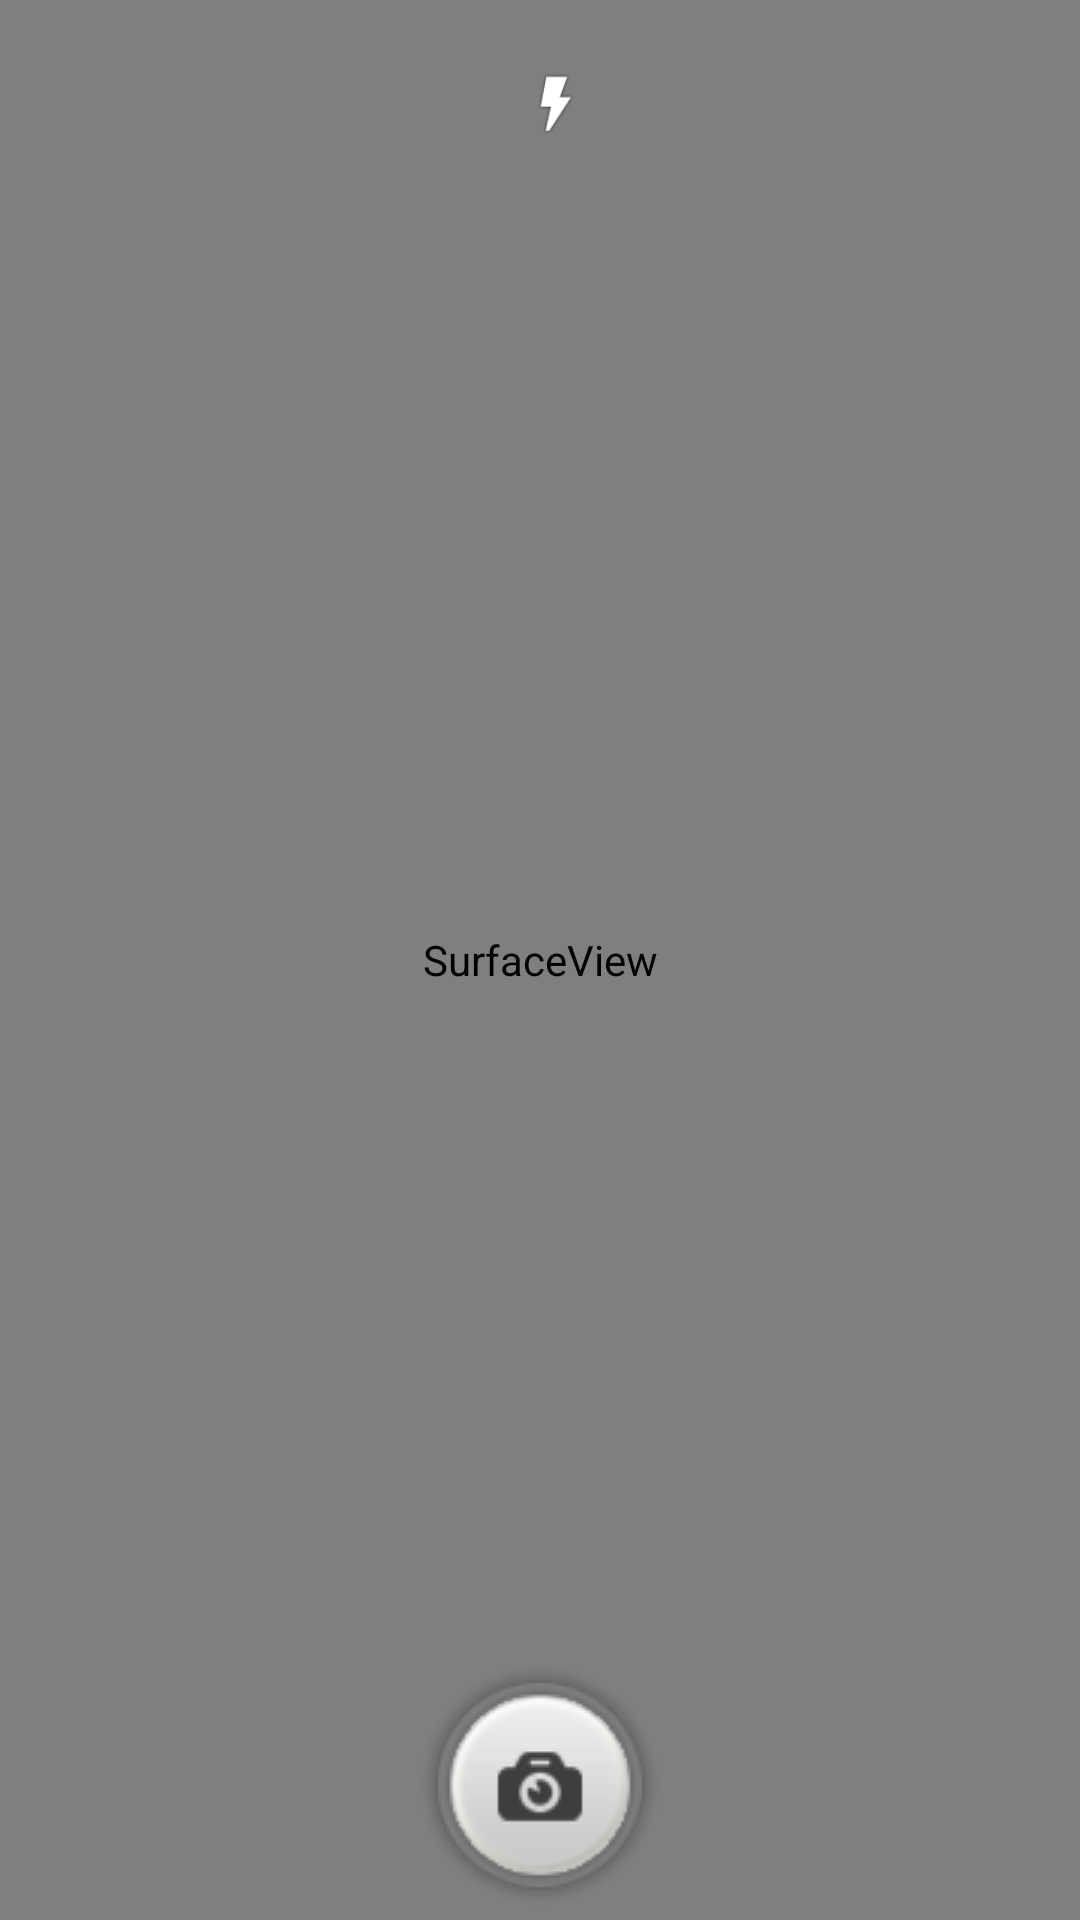

Screen size 1080 x 1920. Icon name, then its box in pixels as bbox=[x1, y1, x2, y2]:
camera flash on: bbox=[540, 76, 571, 131]
camera take: bbox=[436, 1681, 644, 1889]
